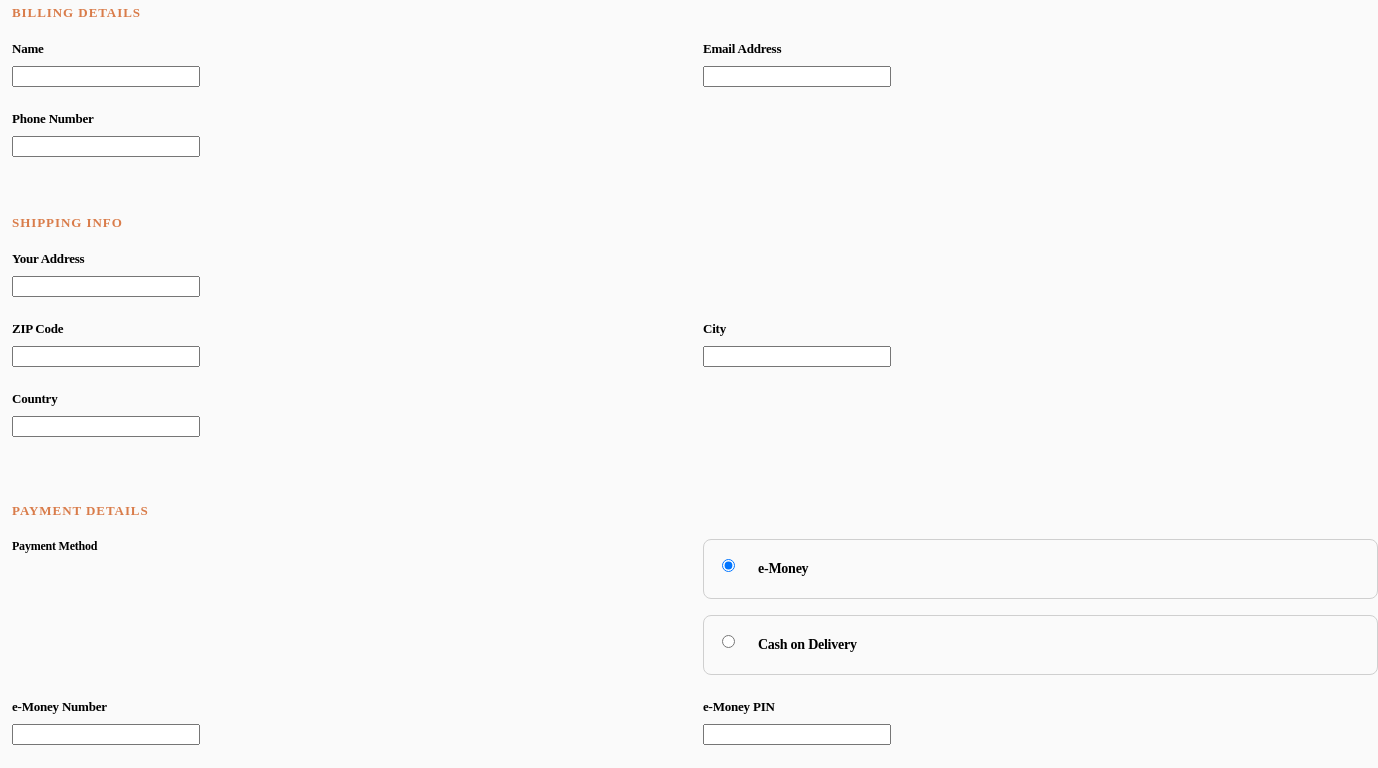
BillingDetails › Interactions › Form validation › displays a required error message in Name field when it was touched and then blurred leaving it with an empty value
Click the field labelled "Name".
click(106, 76)  # box [12,66,200,87]
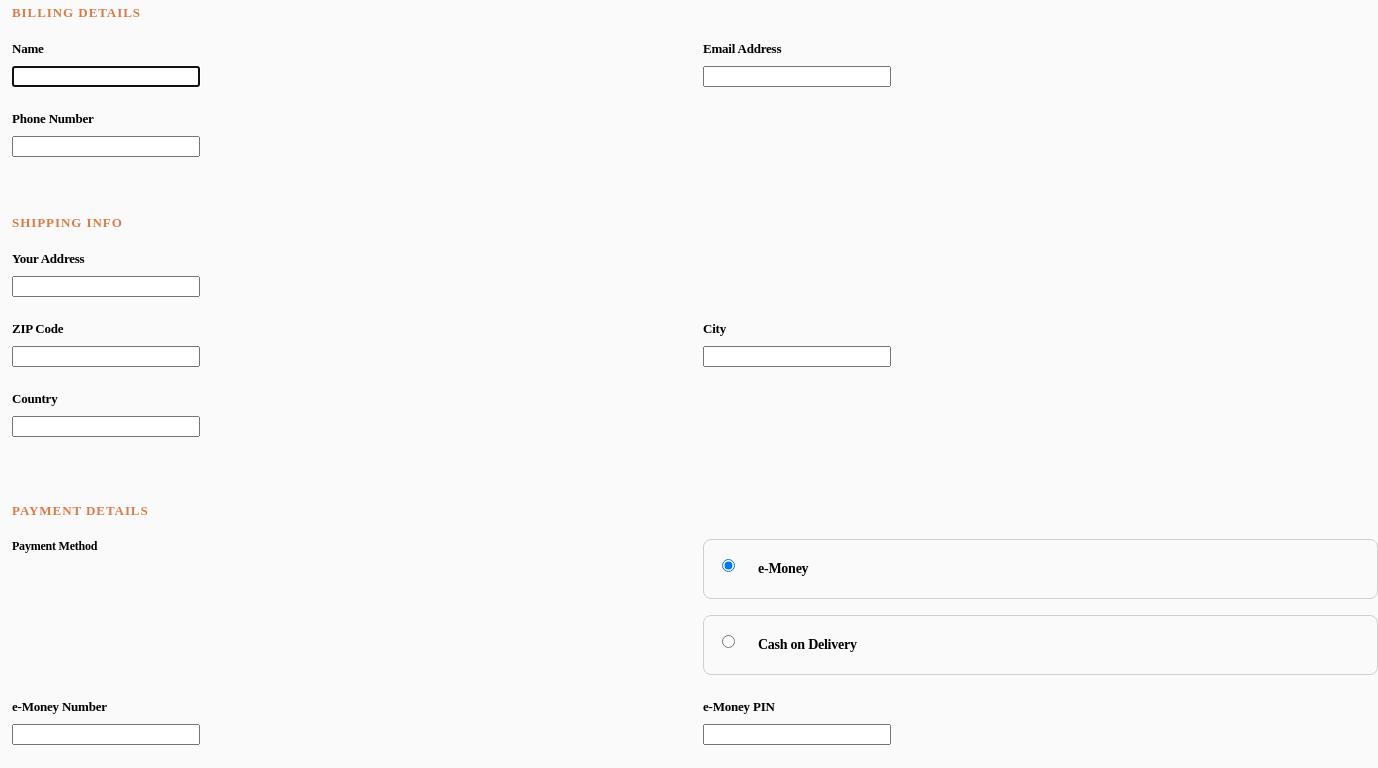
Click the element that starts with "Billing Details".
click(695, 384)  # box [12,0,1377,767]
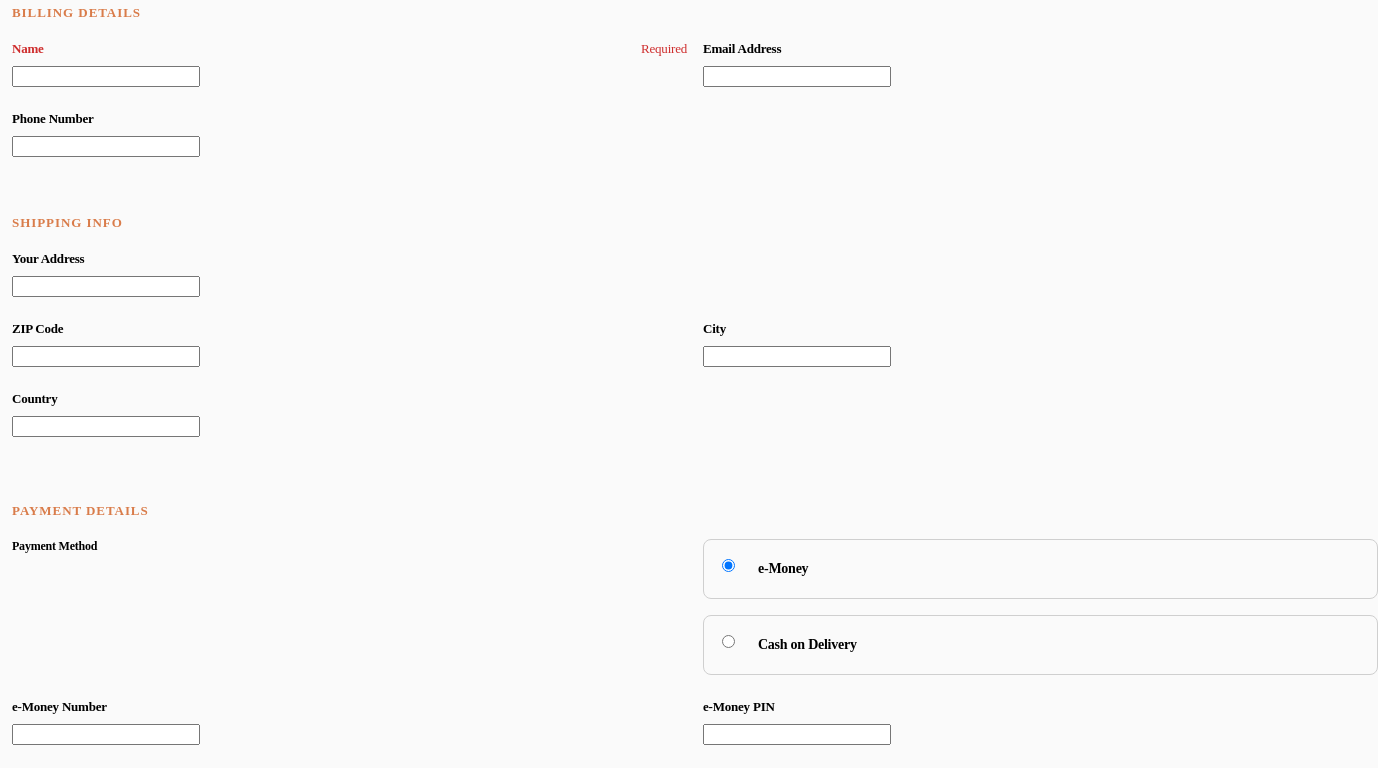
Now the text "Required" is shown, box [641,41,687,57]
